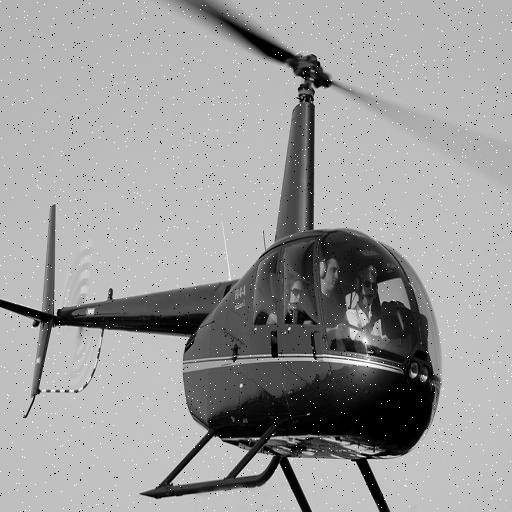helicopter: (1, 1, 464, 512)
